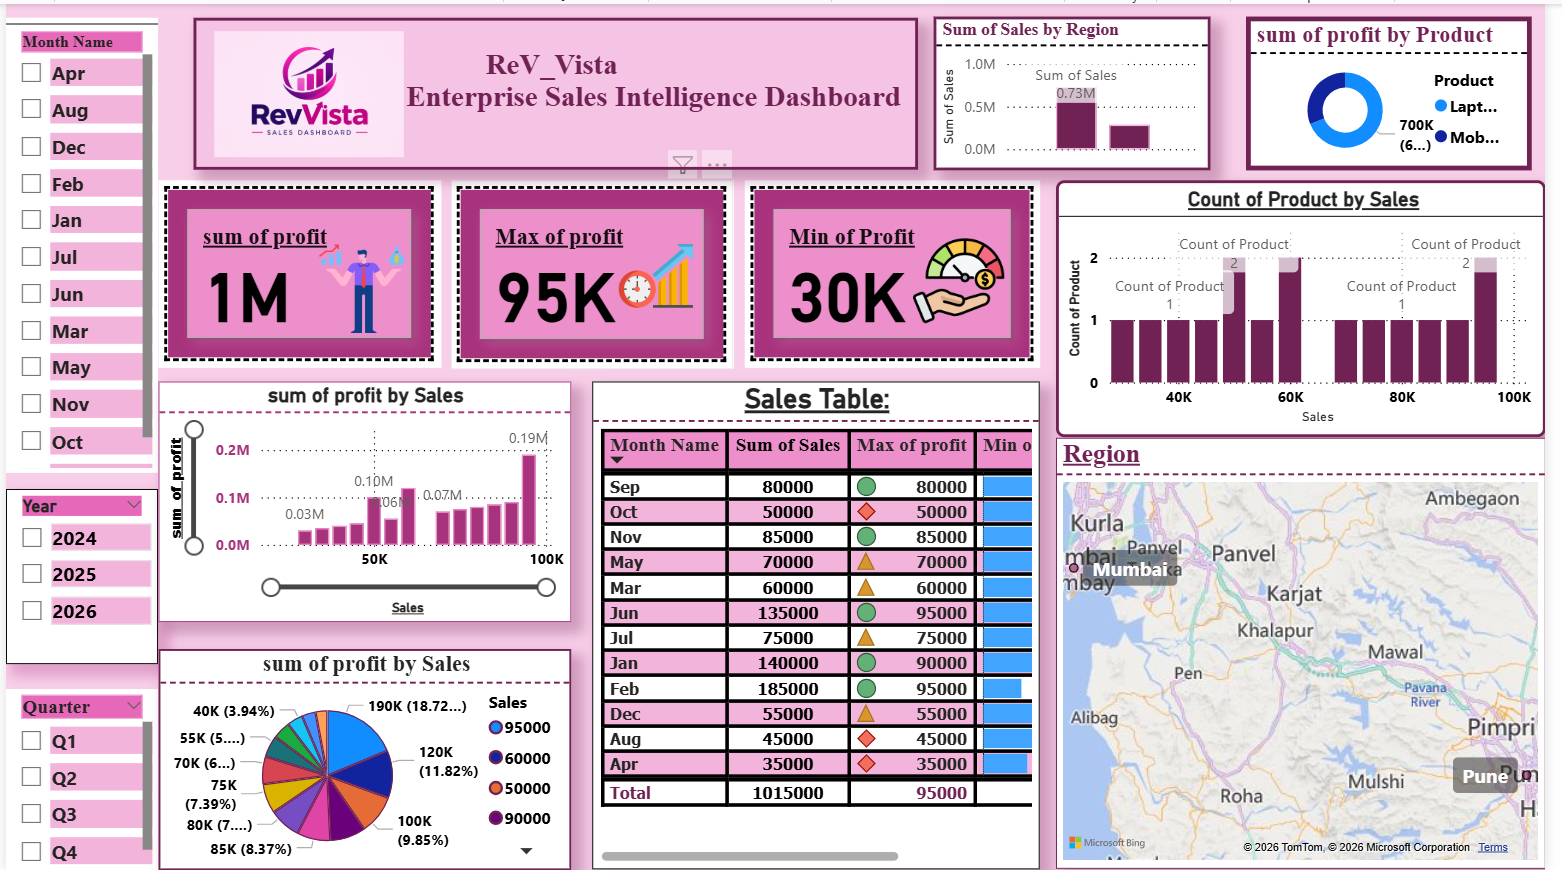

The dashboard page shown, as its layout file describes it:
{"tool":"powerbi","page":{"name":"Page 1","canvas":[1280,720],"ordinal":0},"visuals":[{"type":"slicer","fields":{"Values":["DateTable.Month Name"]},"box":[0,11,126.2,378.7],"z":0},{"type":"slicer","fields":{"Values":["DateTable.Year"]},"box":[0,403.4,126.2,145.5],"z":1000},{"type":"slicer","fields":{"Values":["DateTable.Quarter"]},"box":[0,569.5,126.2,150.9],"z":2000},{"type":"cardVisual","fields":{"Data":["DateTable.sum of profit"]},"box":[126.7,146.5,234.9,155.8],"z":3000},{"type":"cardVisual","fields":{"Data":["DateTable.Max of profit"]},"box":[369.8,146.5,234.9,157],"z":4000},{"type":"cardVisual","fields":{"Data":["DateTable.Min of Profit"]},"box":[614,146.5,245.3,155.8],"z":5000},{"type":"pieChart","fields":{"Category":["Sheet1.Sales"],"Y":["DateTable.sum of profit"]},"box":[126.7,536,343,183.7],"z":6000},{"type":"columnChart","fields":{"Category":["Sheet1.Sales"],"Y":["DateTable.sum of profit"]},"box":[126.7,314,343,200],"z":7000},{"type":"tableEx","title":"Sales Table:","fields":{"Values":["DateTable.Month Name","Sum(Sheet1.Sales)","DateTable.Max of profit","DateTable.Min of Profit","DateTable.sum of profit"]},"box":[487.2,314,372.1,405.8],"z":8000},{"type":"image","box":[737.2,186,110.5,88.4],"z":9000},{"type":"image","box":[487.2,186,105.8,80.2],"z":10000},{"type":"image","box":[210.5,191.9,173.3,89.5],"z":11000},{"type":"textbox","box":[155.9,11.4,602.8,126.8],"z":12000},{"type":"image","box":[168.4,11.4,167.3,126.8],"z":13000},{"type":"lineClusteredColumnComboChart","fields":{"Y":["Sum(Sheet1.Sales)"],"Category":["Sheet1.Region"]},"box":[770.9,10.5,230.2,127.9],"z":14000},{"type":"lineStackedColumnComboChart","fields":{"Category":["Sheet1.Sales"],"Y":["CountNonNull(Sheet1.Product)"]},"box":[873.3,146.5,407,214],"z":15000},{"type":"donutChart","fields":{"Category":["Sheet1.Product"],"Y":["DateTable.sum of profit"]},"box":[1031.4,10.5,237.2,127.9],"z":16000},{"type":"map","fields":{"Category":["Sheet1.Region"]},"box":[873.3,360.5,407,358.1],"z":17000}]}

Visuals, with their boxes in screenshot pixels (x1, y1, x2, y2), scaled from the page's 1280x720 canvas onto the 1562x870 screenshot:
slicer - DateTable.Month Name: <box>0,13,154,471</box>
slicer - DateTable.Year: <box>0,487,154,663</box>
slicer - DateTable.Quarter: <box>0,688,154,869</box>
cardVisual - DateTable.sum of profit: <box>155,177,441,365</box>
cardVisual - DateTable.Max of profit: <box>451,177,738,367</box>
cardVisual - DateTable.Min of Profit: <box>749,177,1049,365</box>
pieChart - Sheet1.Sales x DateTable.sum of profit: <box>155,648,573,869</box>
columnChart - Sheet1.Sales x DateTable.sum of profit: <box>155,379,573,621</box>
"Sales Table:" tableEx: <box>595,379,1049,869</box>
image: <box>900,225,1034,332</box>
image: <box>595,225,724,322</box>
image: <box>257,232,468,340</box>
textbox: <box>190,14,926,167</box>
image: <box>206,14,410,167</box>
lineClusteredColumnComboChart - Sum(Sheet1.Sales) x Sheet1.Region: <box>941,13,1222,167</box>
lineStackedColumnComboChart - Sheet1.Sales x CountNonNull(Sheet1.Product): <box>1066,177,1561,436</box>
donutChart - Sheet1.Product x DateTable.sum of profit: <box>1259,13,1548,167</box>
map - Sheet1.Region: <box>1066,436,1561,868</box>
